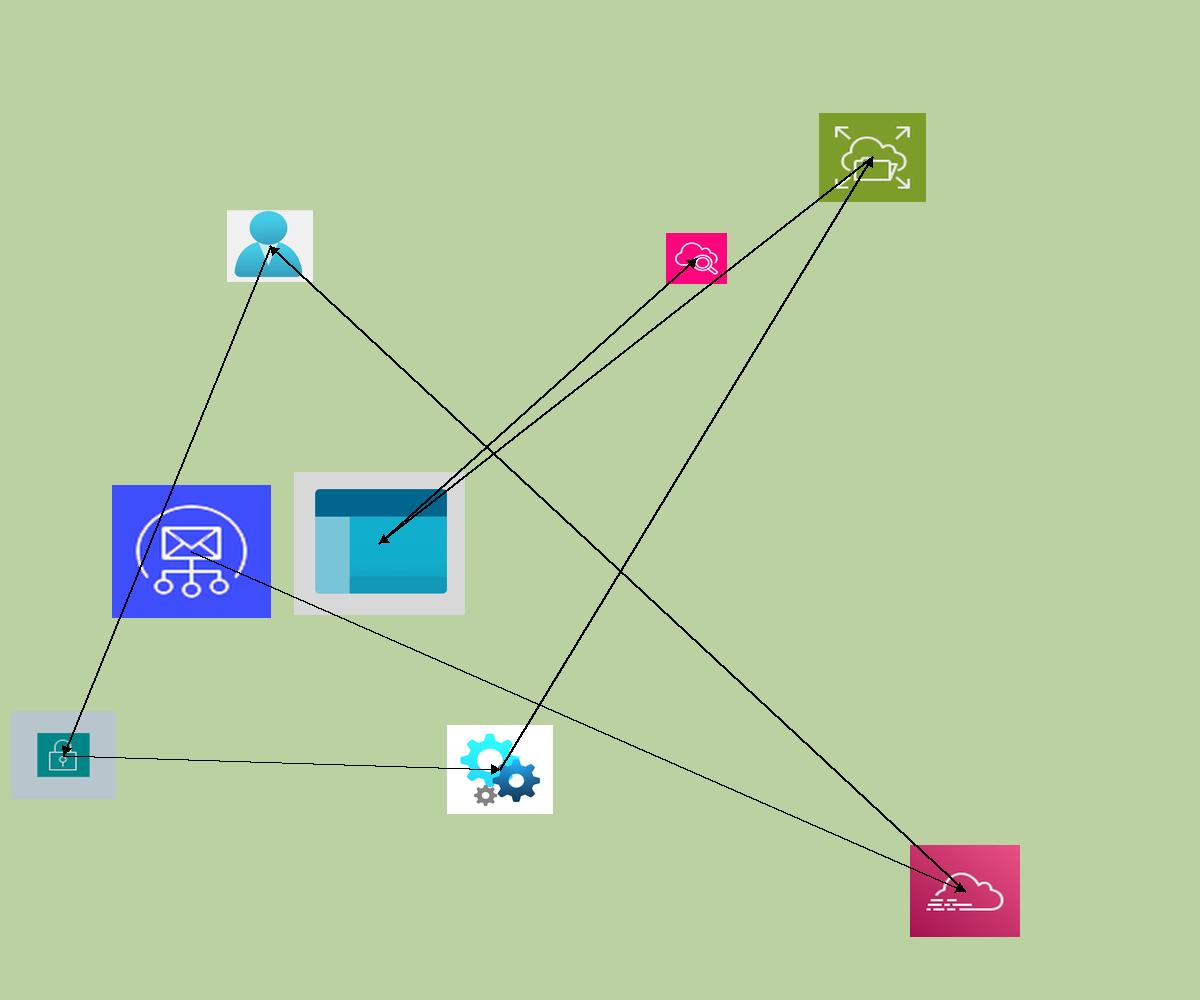AWS-CloudTrail: (910, 845, 1020, 937)
AWS-CloudWatch: (666, 233, 727, 284)
AWS-EFS: (819, 113, 926, 202)
AWS-Private-subnet: (11, 711, 116, 799)
AWS-Simple-Email-Service: (112, 485, 271, 618)
Azure_api: (447, 725, 553, 814)
Azure_management-portal: (294, 472, 465, 615)
Azure_users: (227, 210, 313, 282)
